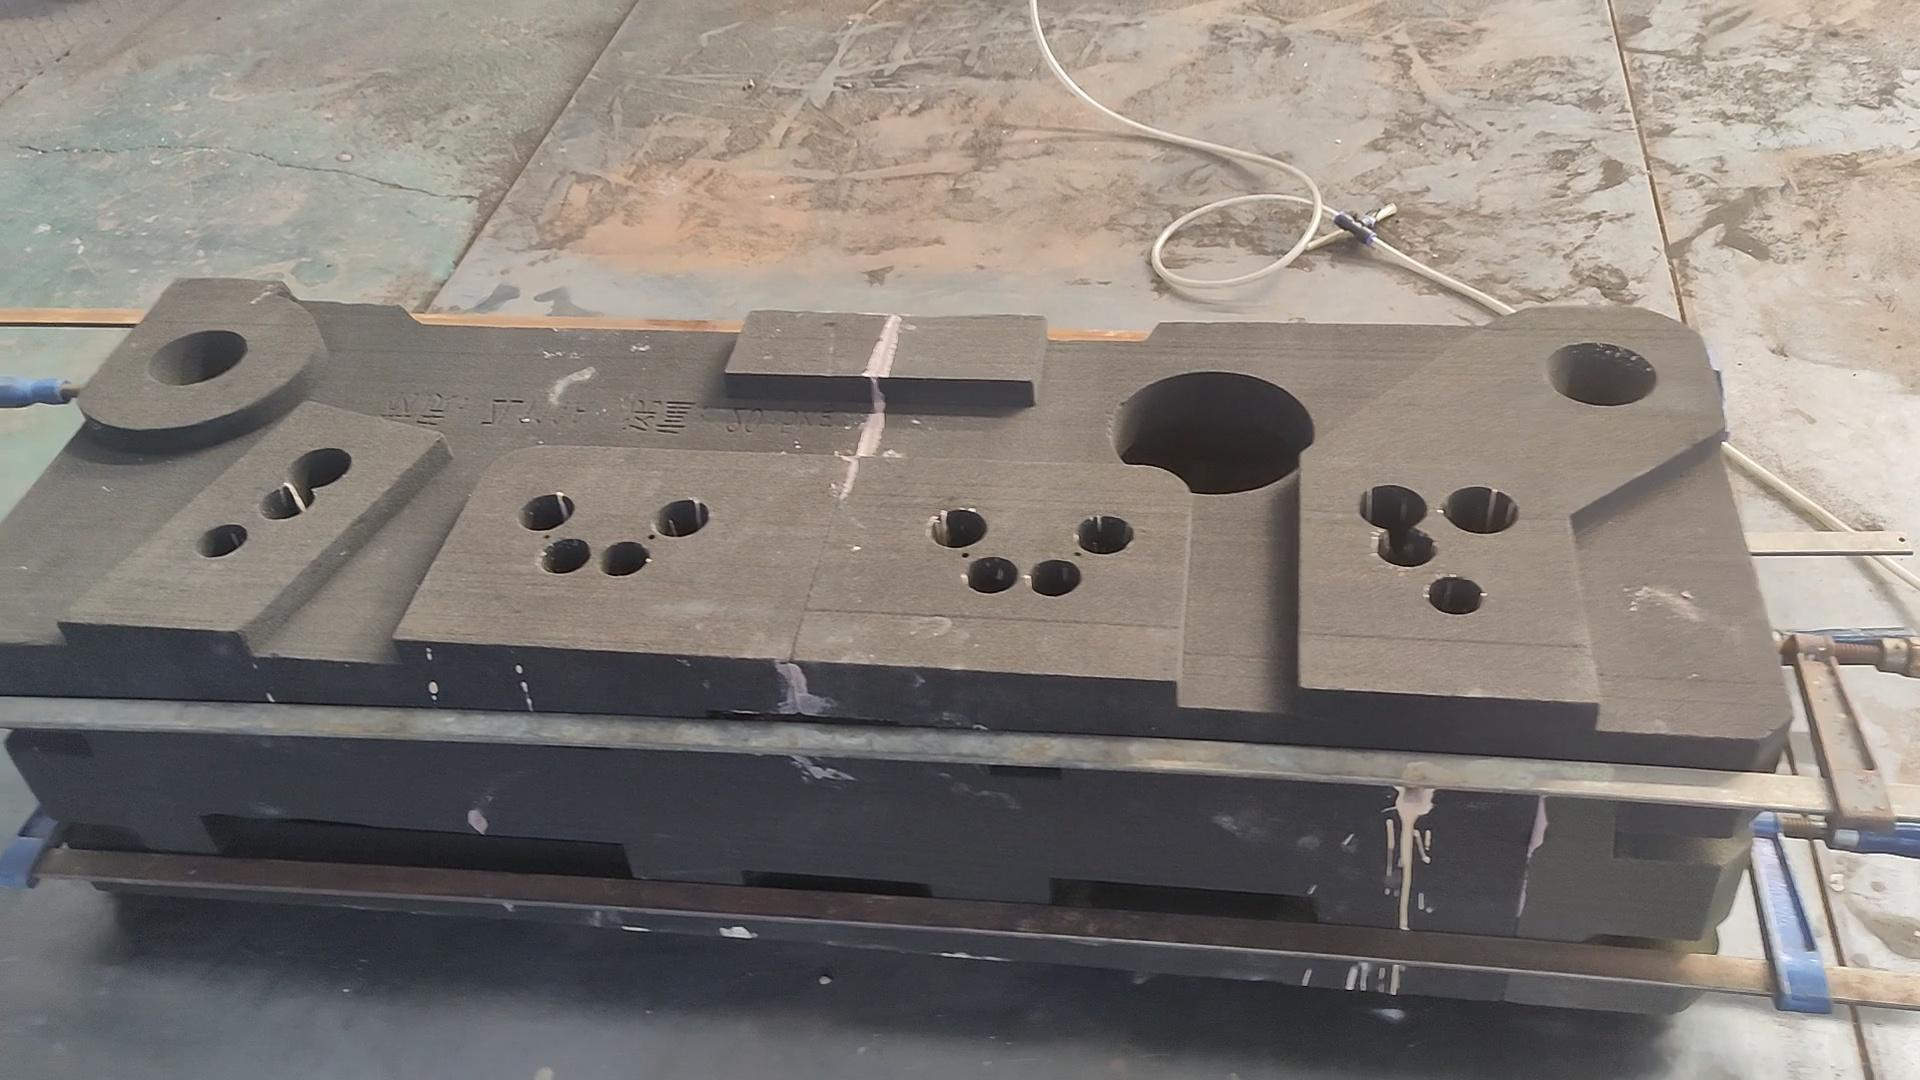pouring hole: (1545, 340, 1658, 407), (145, 328, 248, 386)
